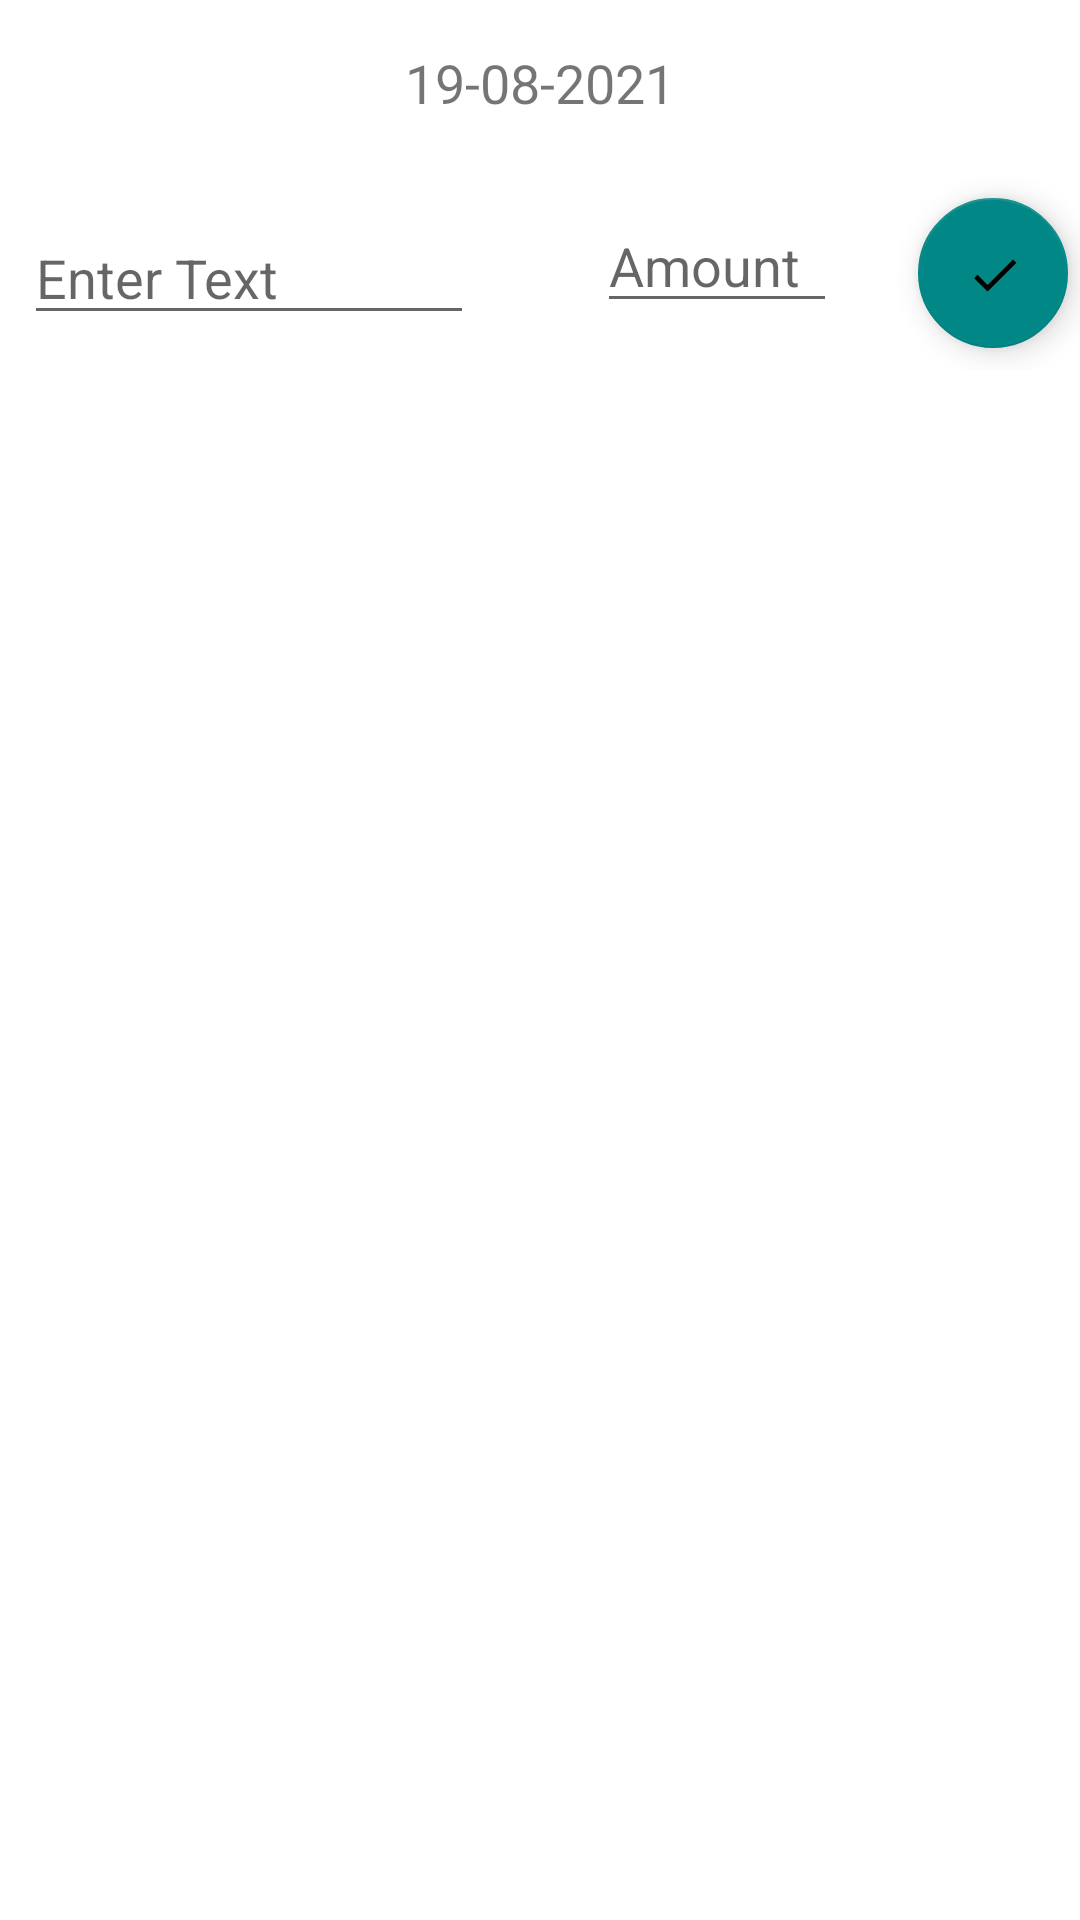

Where icons sit on this 1080 × 1920 app screen, as {"left": x1, "top": y1, "right": x2, "bottom": y2}:
done: {"left": 918, "top": 198, "right": 1068, "bottom": 348}
